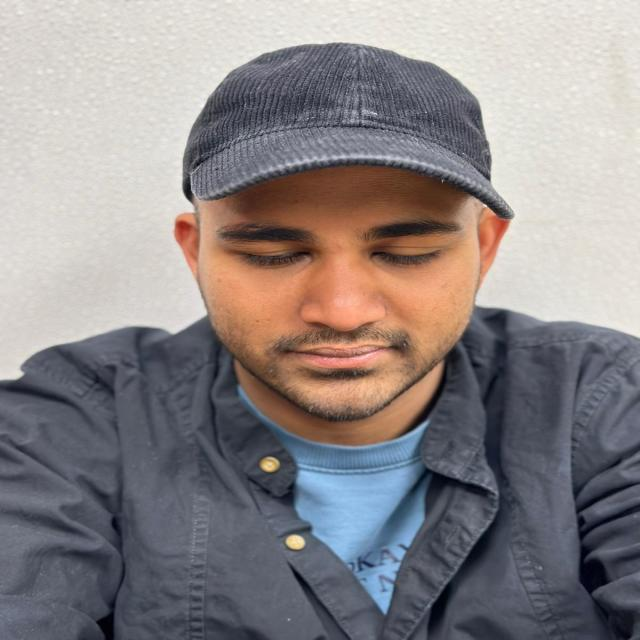cap: (159, 28, 567, 239)
